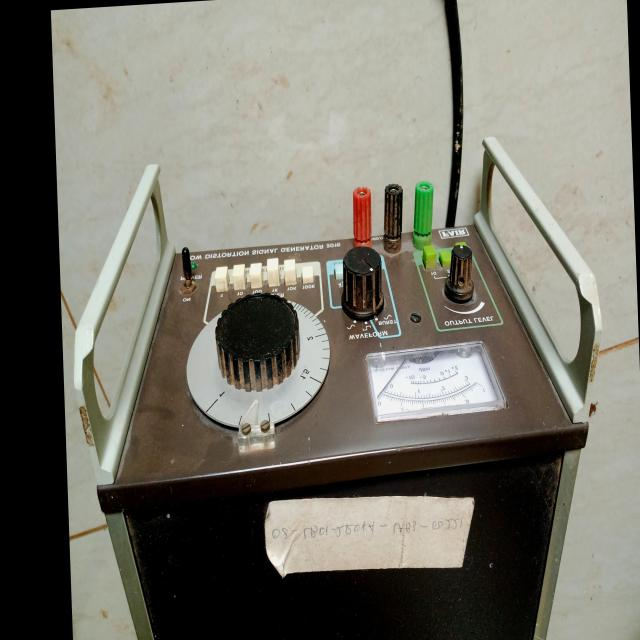Low Distortion Signal Generator: (64, 94, 620, 640)
